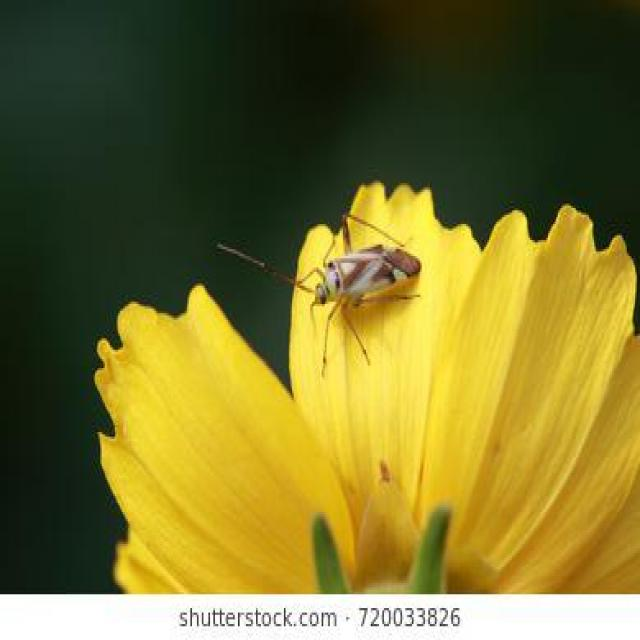Miridae-Adult-: (208, 196, 430, 380)
